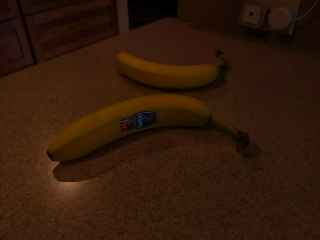banana: (45, 93, 252, 166), (112, 44, 232, 92)
